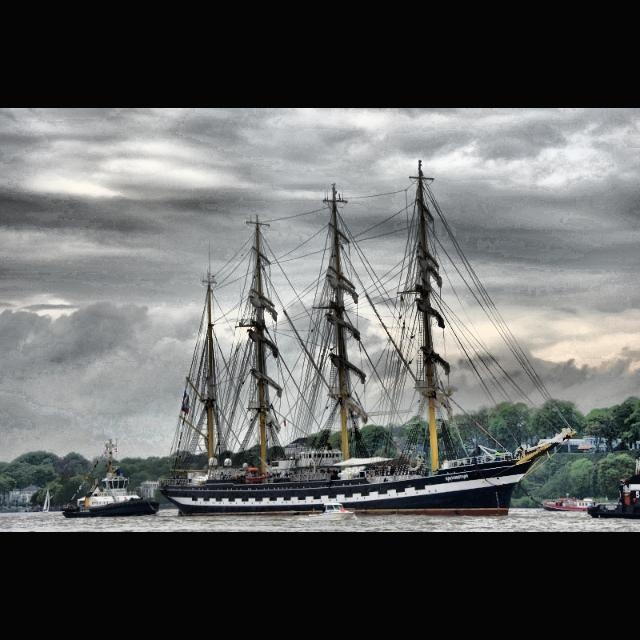sailing_vessel: (158, 160, 576, 518)
tug: (62, 438, 160, 520)
